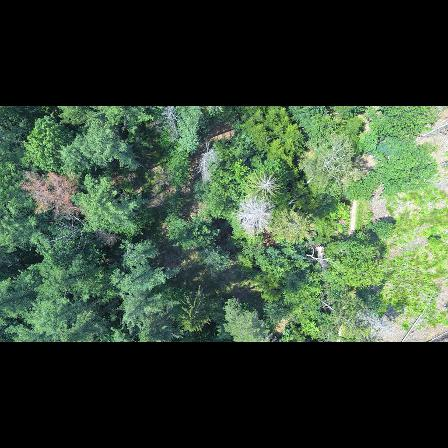Dead: (235, 197, 274, 235), (154, 106, 182, 139), (197, 136, 216, 180)
Sick: (252, 173, 280, 195)
